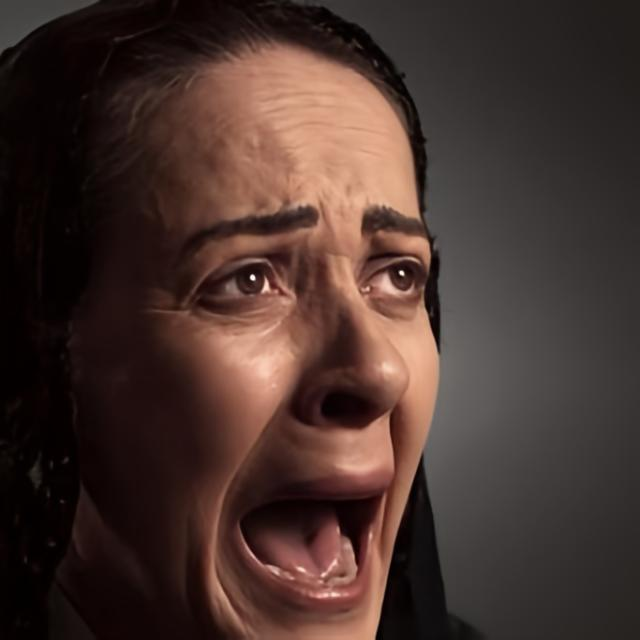fear: (68, 32, 441, 640)
